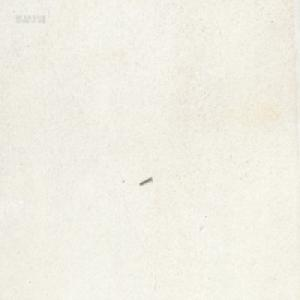Bolt: (138, 176, 152, 186)
